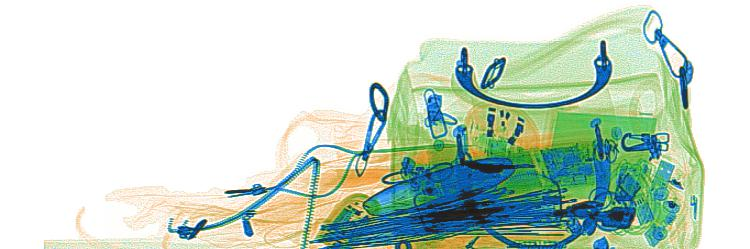USBFlashDisk: (620, 168, 653, 224), (644, 204, 687, 246), (647, 157, 677, 205)
